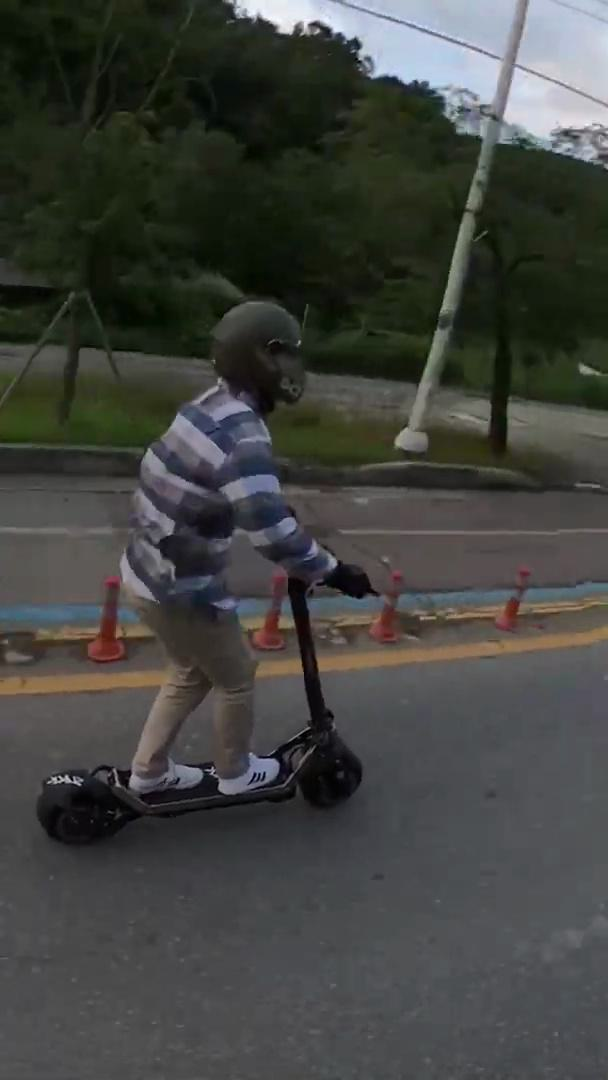helmet: (32, 299, 384, 850)
